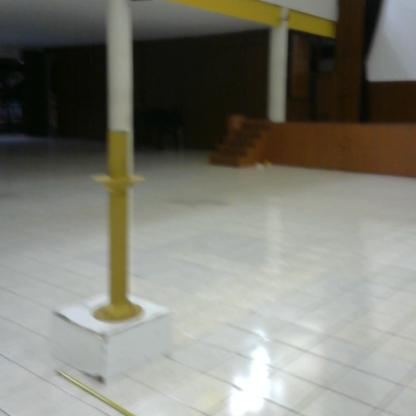pole: (85, 126, 155, 333)
